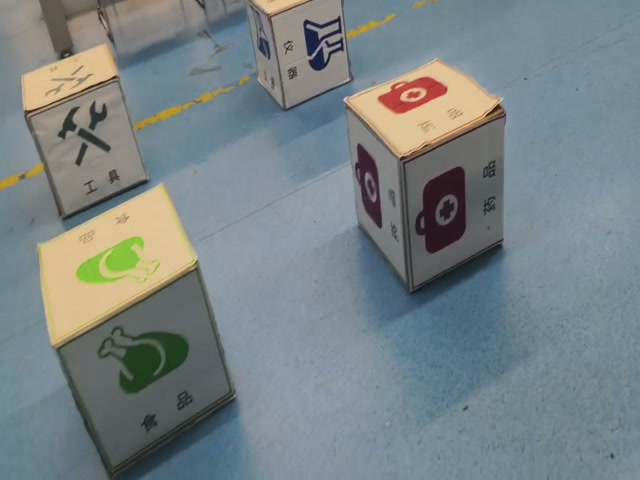Cube_food: (32, 179, 200, 352)
Cube_ins: (248, 0, 345, 17)
Cube_medicine: (344, 52, 505, 160)
Cube_tool: (20, 42, 120, 119)
